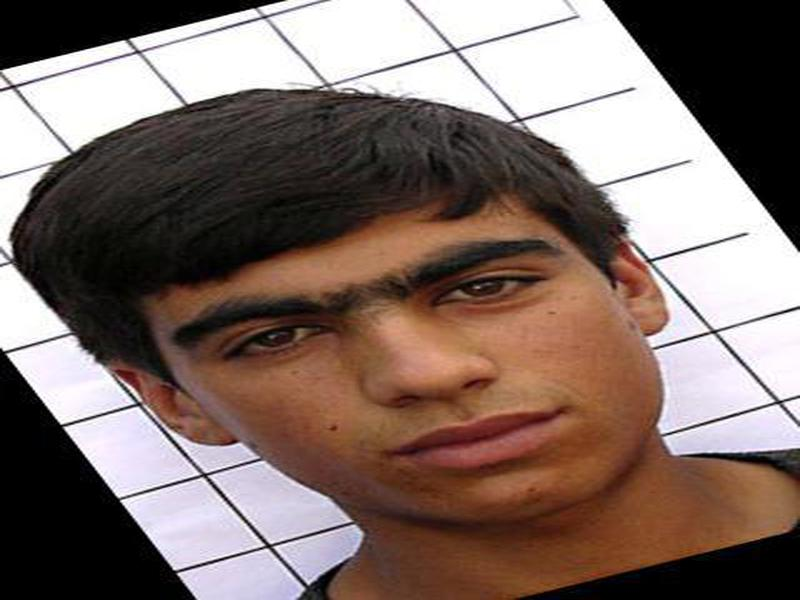without_mask: (108, 195, 687, 527)
